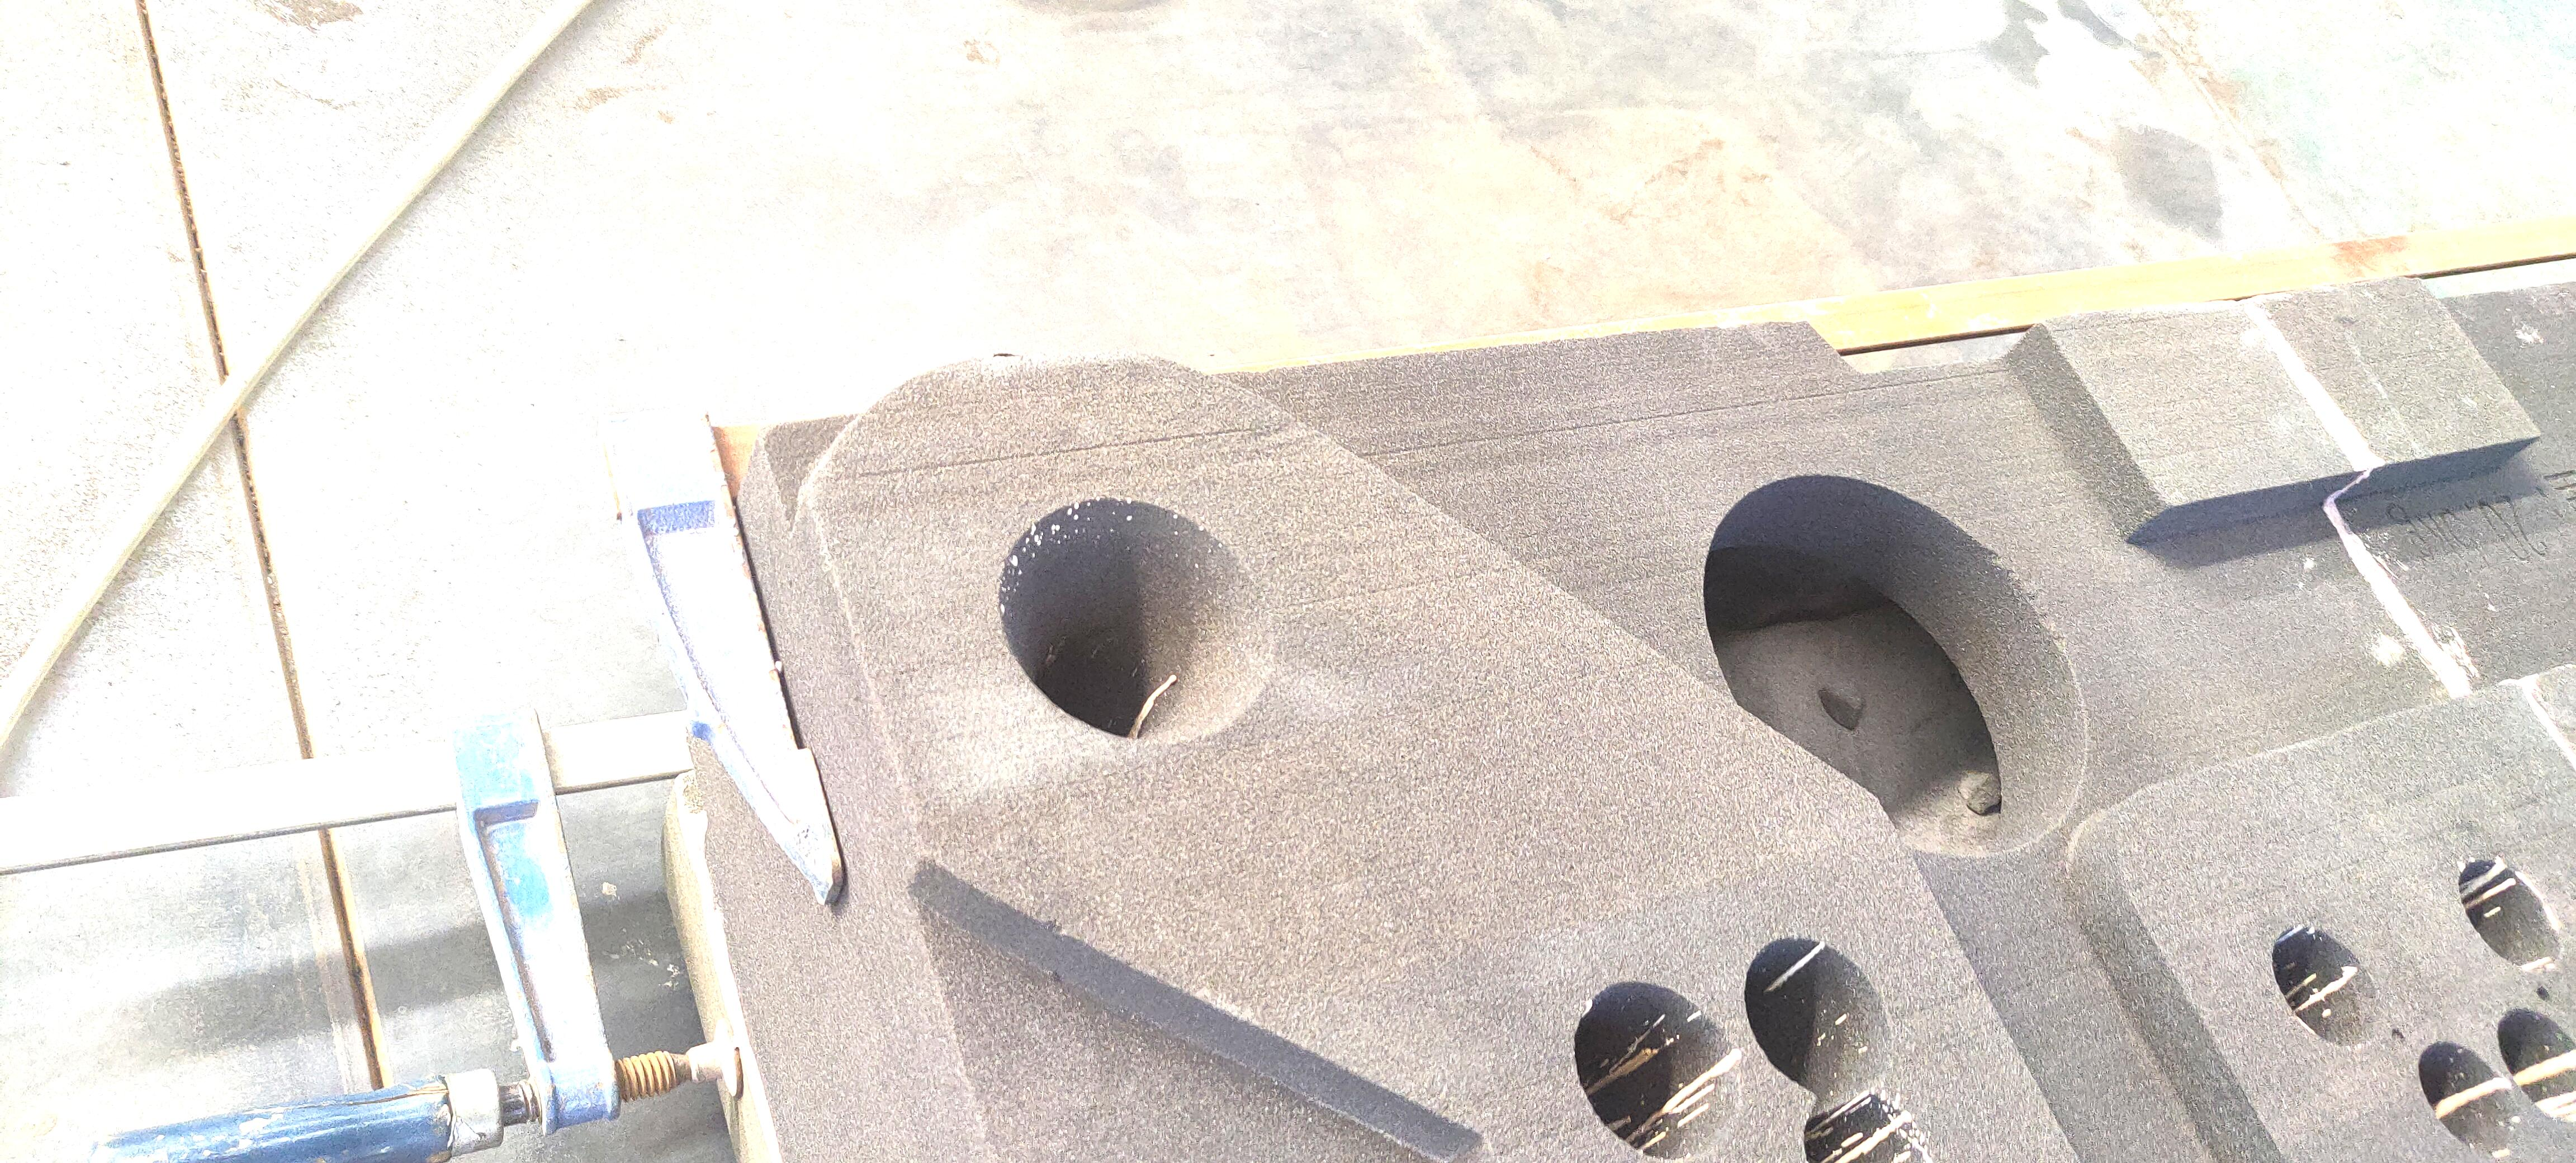pouring hole: (997, 499, 1275, 746)
